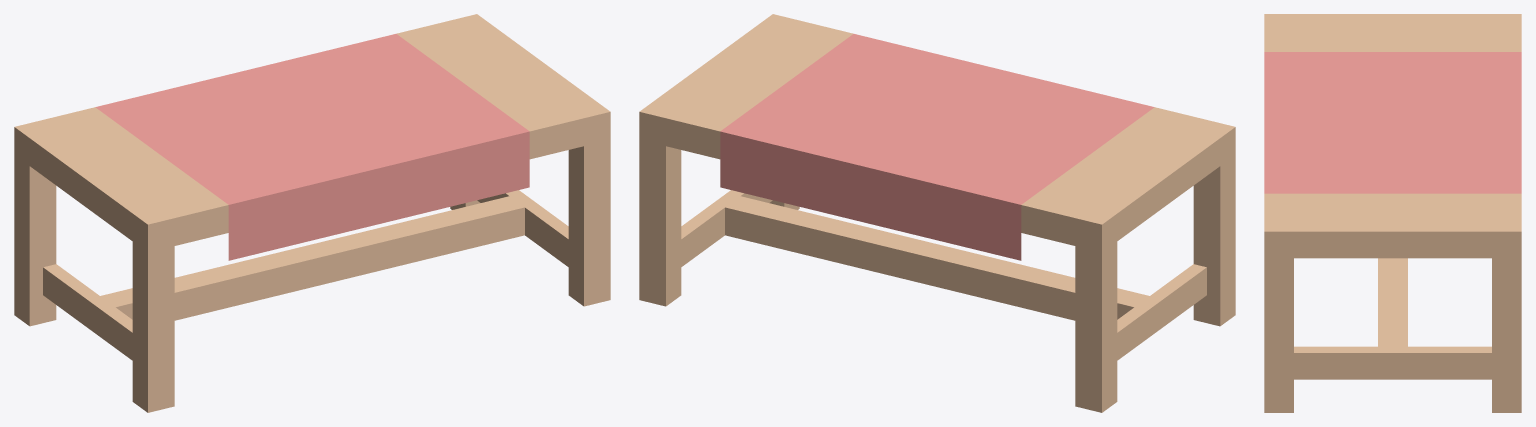
The model's file is tableCloth-col.glb.
The picture shows the model from 3 angles, left to right: view 1: azimuth 30°, elevation 25°; view 2: azimuth 150°, elevation 25°; view 3: azimuth 270°, elevation 25°; orthographic projection. The views are drawn at different scales.
Visible parts, largest first — view 1: tableCloth-col; view 2: tableCloth-col; view 3: tableCloth-col.
Boxes of the visible parts, box(x1,y1,x2,y2) form: tableCloth-col: box(14, 14, 610, 412); tableCloth-col: box(639, 14, 1235, 412); tableCloth-col: box(1264, 14, 1521, 412).
Size of the model in its own units: 0.9 by 0.35 by 0.45.
